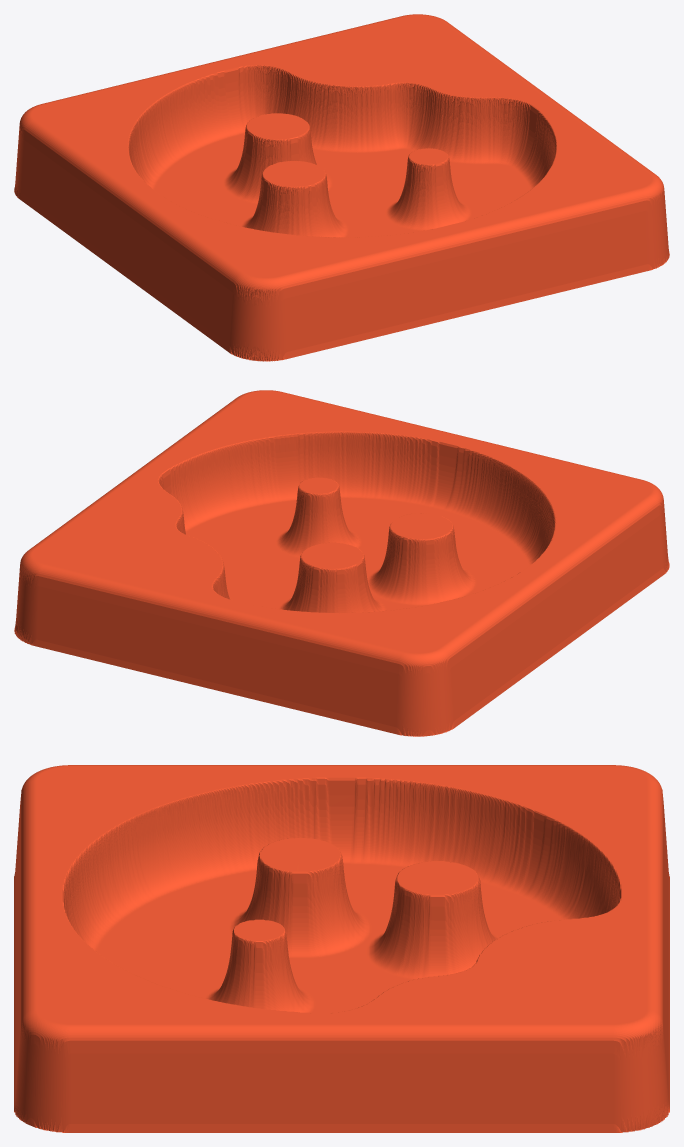
File: mold.glb
The picture shows the model from 3 angles, top to bottom: view 1: azimuth 30°, elevation 25°; view 2: azimuth 150°, elevation 25°; view 3: azimuth 270°, elevation 25°; orthographic projection. The views are drawn at different scales.
Parts seen in each view (by area): view 1: geometry_0; view 2: geometry_0; view 3: geometry_0.
Boxes of the visible parts, x1,y1,x2,y2 form: geometry_0: [14, 14, 669, 361]; geometry_0: [14, 390, 669, 736]; geometry_0: [14, 765, 669, 1132].
Bounding box in the file's own units: 0.1048 × 0.0175 × 0.105.
